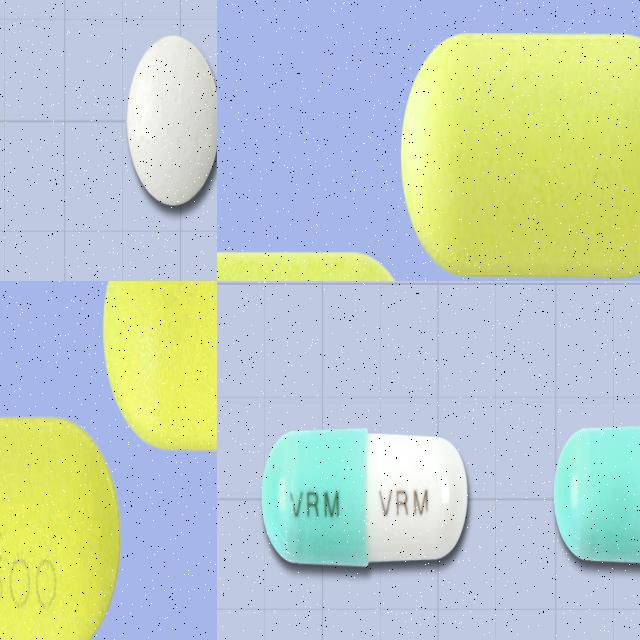Leprosin: (127, 35, 217, 206)
Mabid: (0, 415, 122, 640), (104, 281, 217, 447)
New Clato Tab-500mg: (400, 29, 640, 274)
Viramid Cap-200mg: (261, 425, 470, 570), (555, 422, 640, 568)
